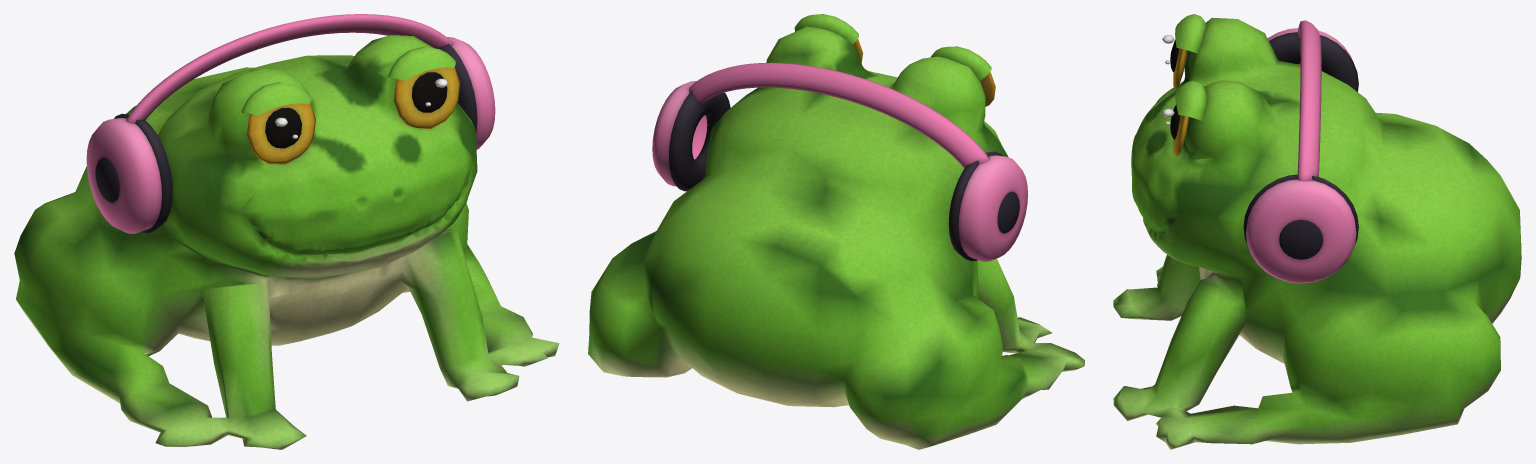
Rendered from frog.fbx.
3 renders of one model, left to right at view 1: azimuth 30°, elevation 25°; view 2: azimuth 150°, elevation 25°; view 3: azimuth 270°, elevation 25°, orthographic. The views are drawn at different scales.
Visible parts, largest first — view 1: Frog_Body, Frog_Eyes; view 2: Frog_Body; view 3: Frog_Body, Frog_Eyes.
Boxes of the visible parts, left/top/right/bottom form: Frog_Body: left=14, top=14, right=559, bottom=449; Frog_Eyes: left=265, top=72, right=447, bottom=148; Frog_Body: left=588, top=14, right=1084, bottom=449; Frog_Body: left=1113, top=14, right=1521, bottom=449; Frog_Eyes: left=1170, top=40, right=1180, bottom=139.
Size of the model in its own units: 3.59 by 2.77 by 3.32.
2 materials, 1 textured.
